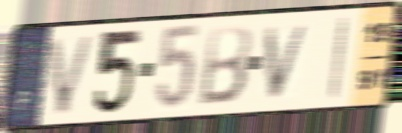5: (91, 26, 147, 117), (153, 21, 201, 115)
B: (195, 23, 254, 108)
I: (326, 14, 351, 104)
V: (47, 31, 99, 118), (263, 21, 313, 102)
